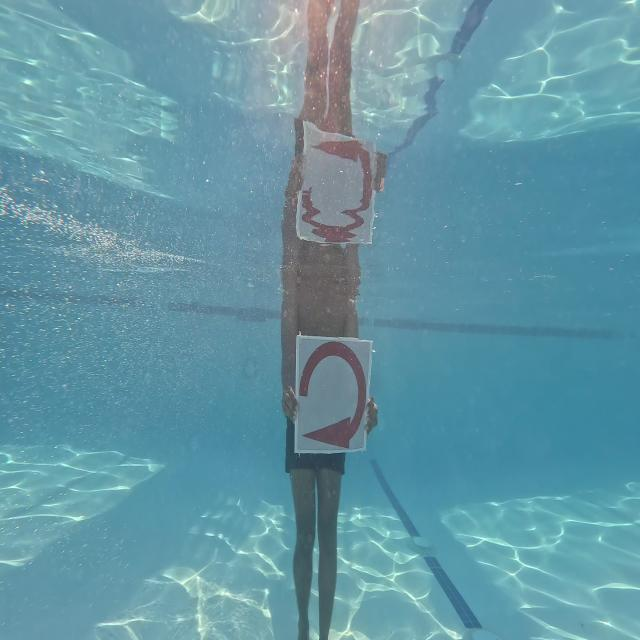red_side: (284, 325, 376, 460)
